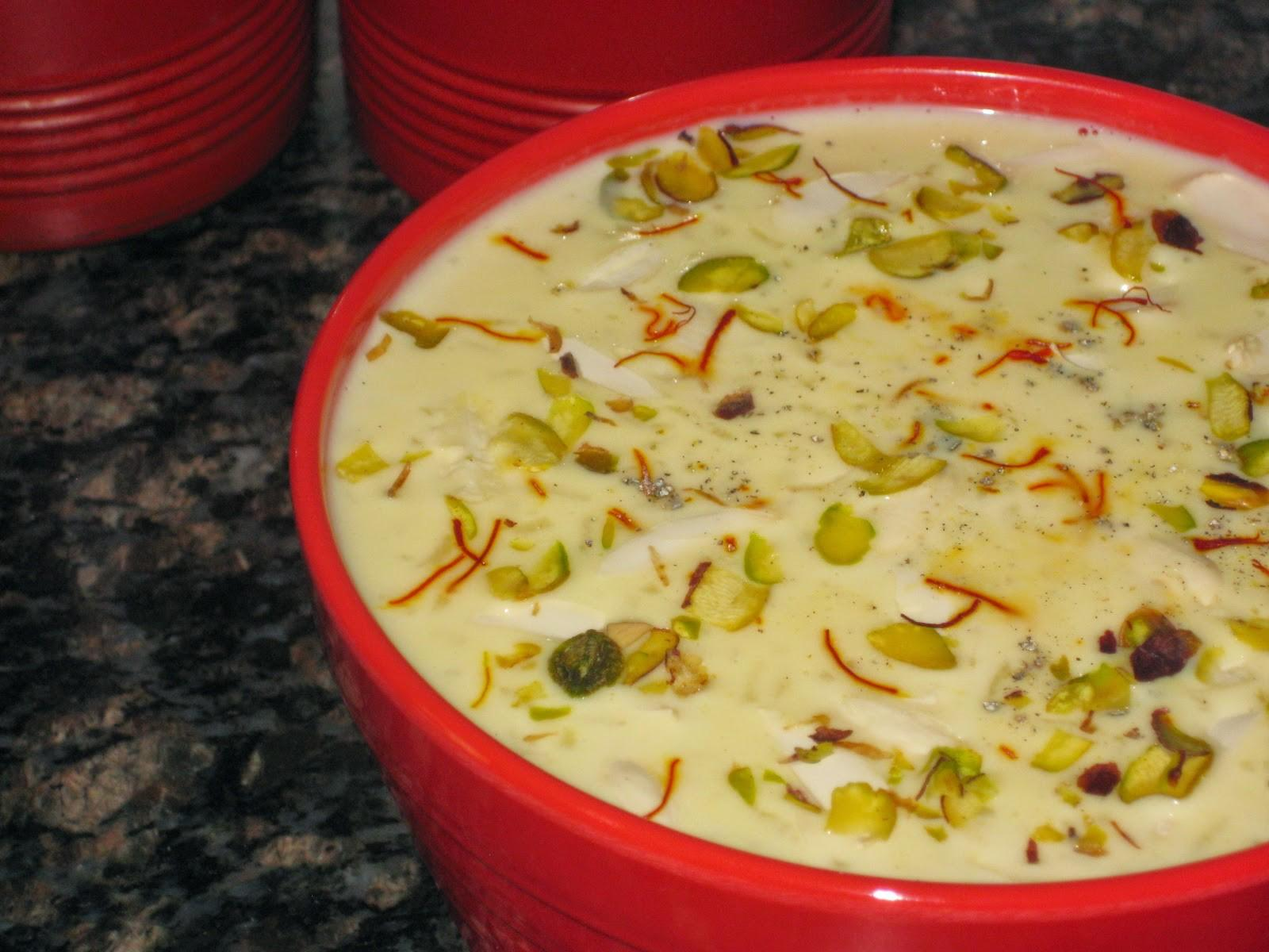Kheer: (334, 109, 1269, 882)
